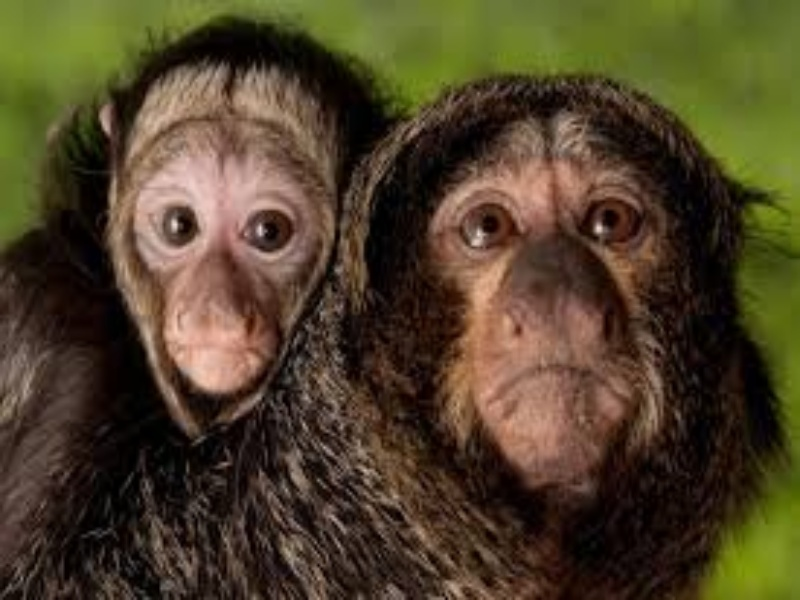monkey: (380, 59, 754, 600), (32, 32, 347, 408)
